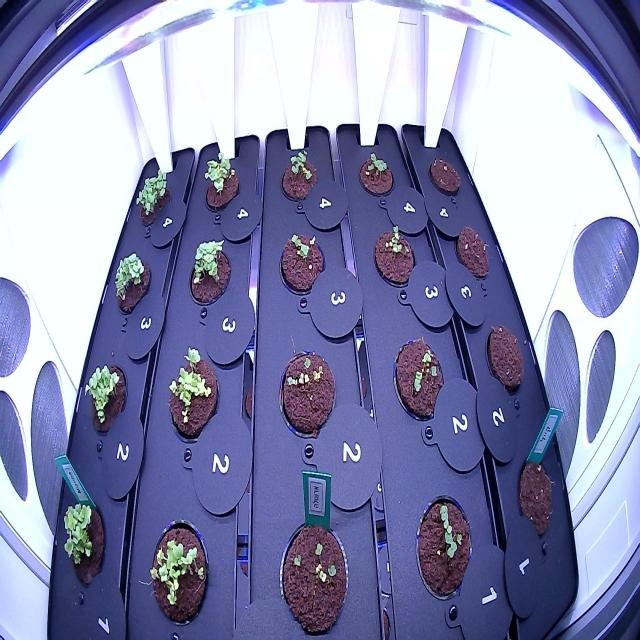germination: (273, 505, 352, 636), (410, 484, 480, 612), (140, 512, 210, 630), (272, 339, 340, 450), (163, 339, 221, 453), (52, 490, 112, 600), (390, 328, 450, 430), (78, 356, 134, 446), (274, 223, 330, 303), (184, 233, 235, 316), (194, 144, 244, 218), (369, 221, 419, 294), (107, 247, 154, 323), (129, 161, 175, 235), (274, 143, 323, 212), (357, 144, 398, 208)
pod: (512, 450, 560, 542), (480, 312, 530, 399), (451, 216, 494, 286), (424, 152, 465, 200)
